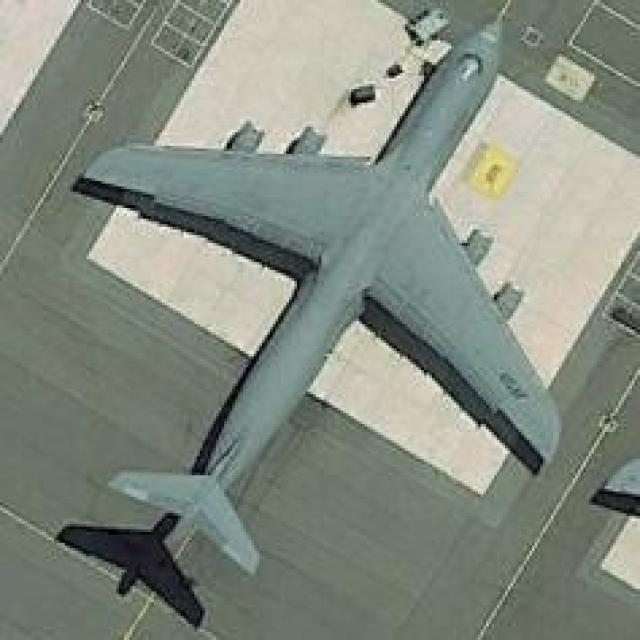C-5_TopDown: (54, 22, 564, 624)
